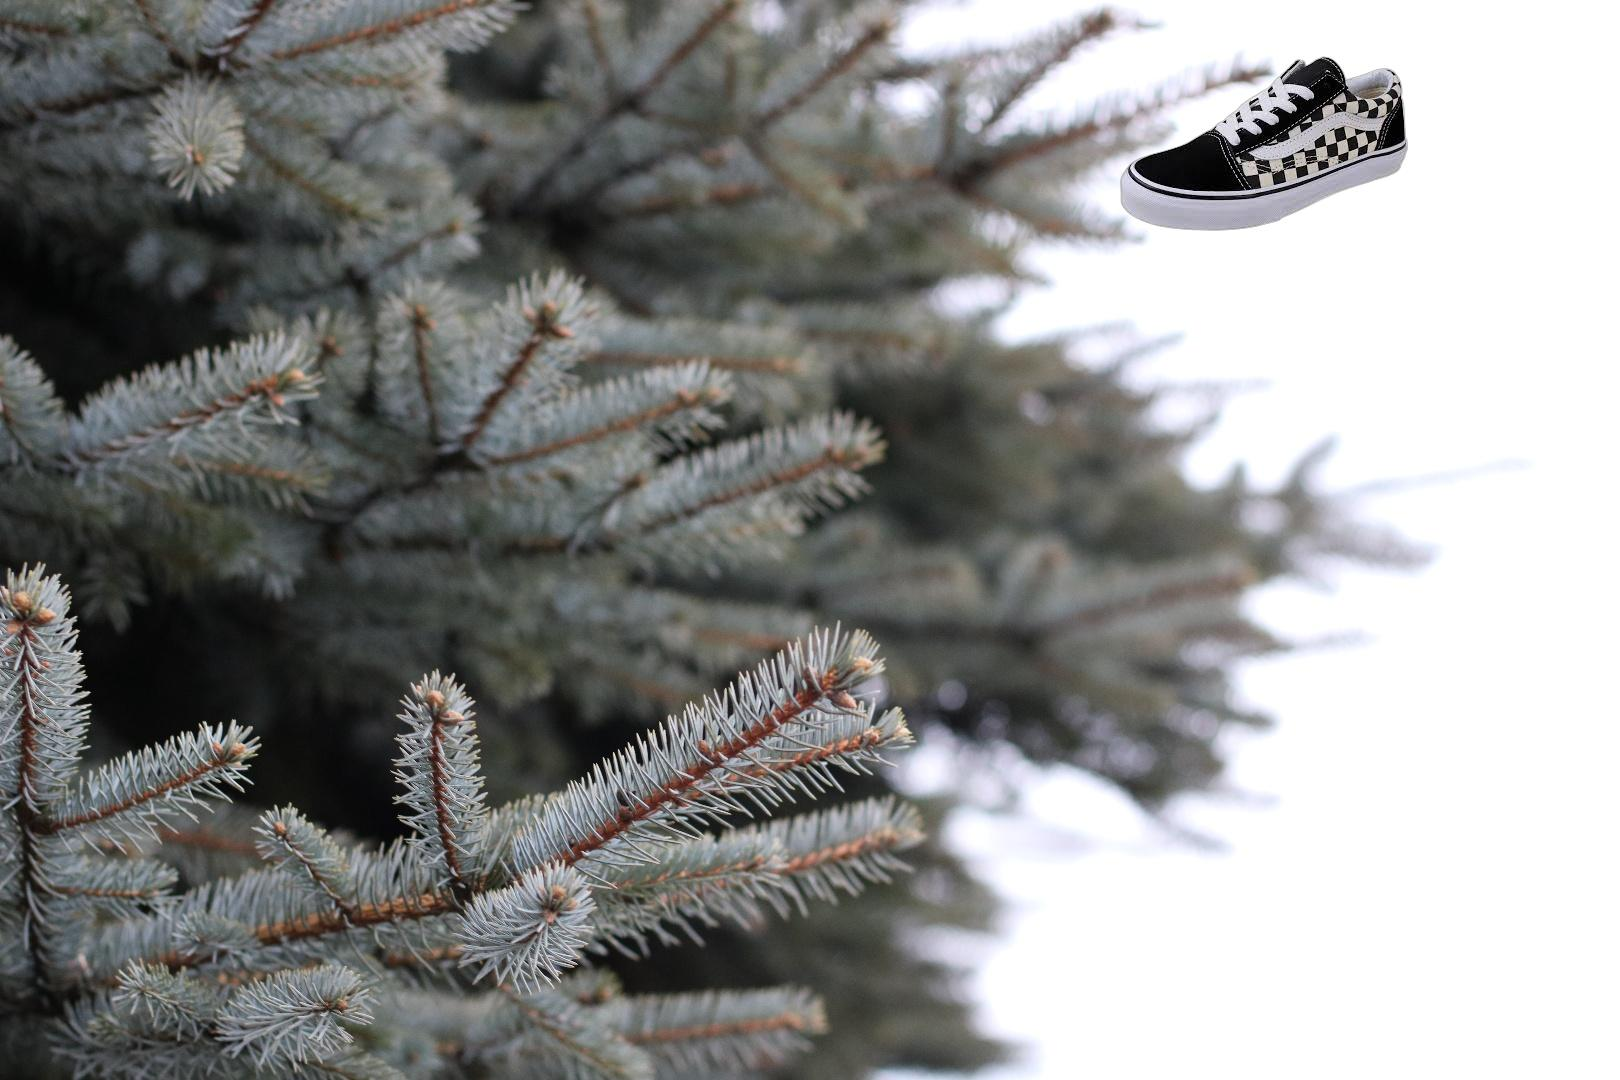shoes: (1120, 55, 1408, 231)
